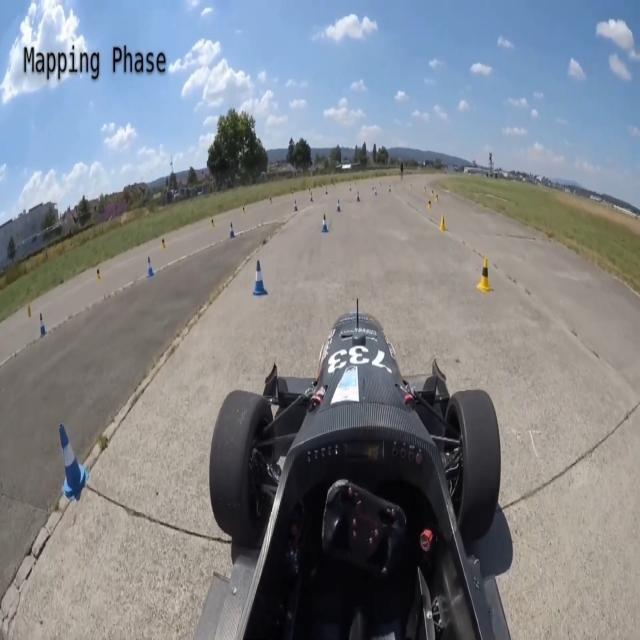blue_cone: (52, 424, 84, 496), (252, 258, 268, 301), (335, 188, 344, 221), (321, 210, 330, 238)
yellow_cone: (474, 258, 496, 296), (438, 210, 448, 233), (427, 196, 433, 210)
